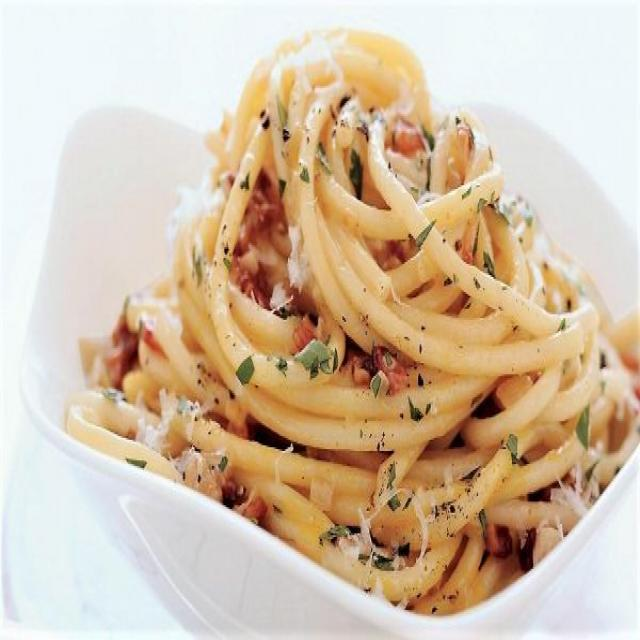Pasta with carbonara sauce: (138, 17, 614, 609)
